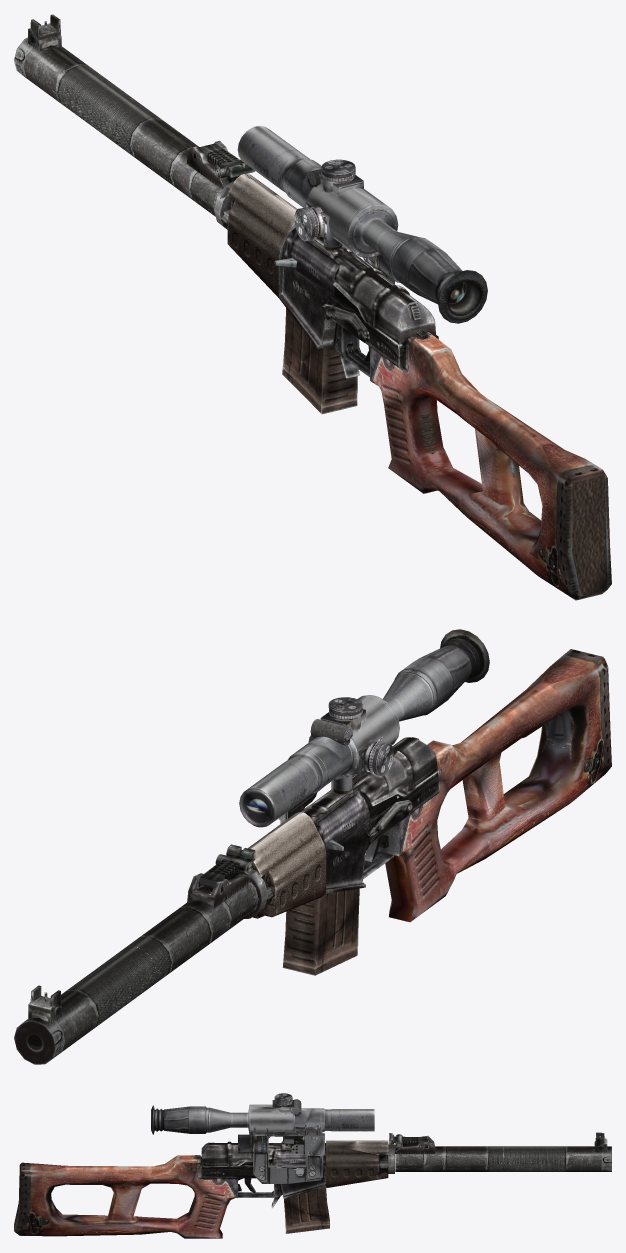
The model's file is wpn_vintorez_hud.fbx.
The picture shows the model from 3 angles, top to bottom: view 1: azimuth 30°, elevation 25°; view 2: azimuth 150°, elevation 25°; view 3: azimuth 270°, elevation 25°; orthographic projection. The views are drawn at different scales.
Visible parts, largest first — view 1: 0; view 2: 0; view 3: 0.
Boxes of the visible parts, x1,y1,x2,y2 form: 0: (14, 14, 611, 600); 0: (14, 629, 611, 1064); 0: (14, 1093, 611, 1238).
Size of the model in its own units: 0.073 by 0.2271 by 0.8928.
